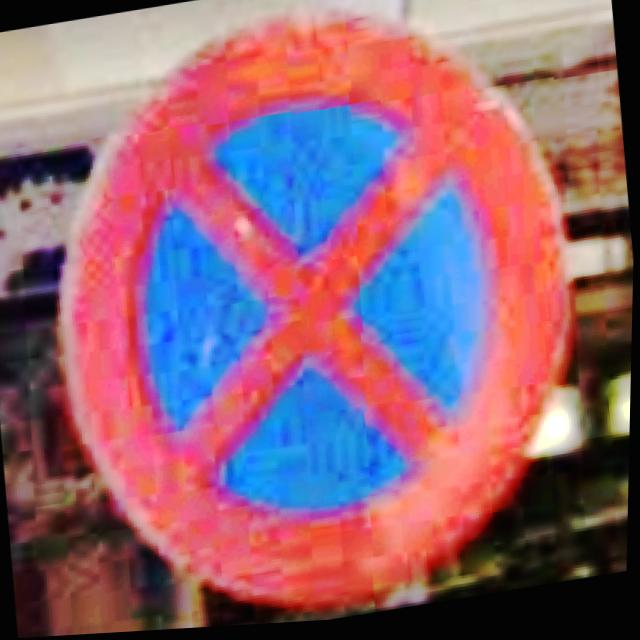nopark: (61, 14, 576, 614)
